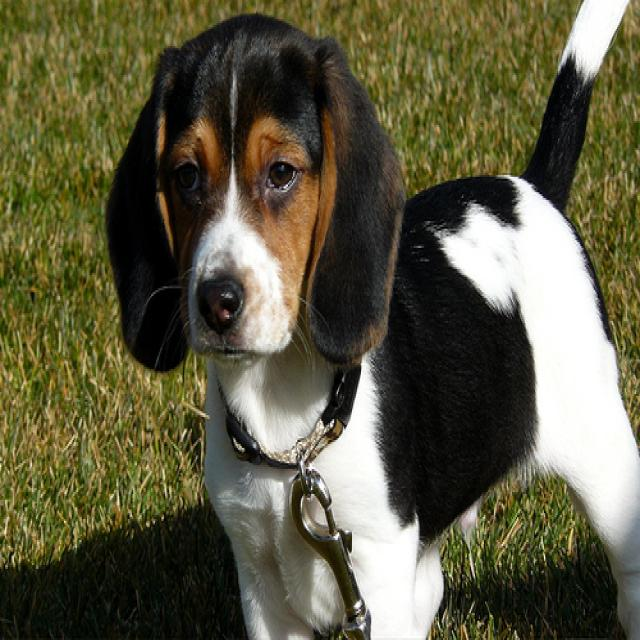dog-beagle: (108, 2, 637, 636)
